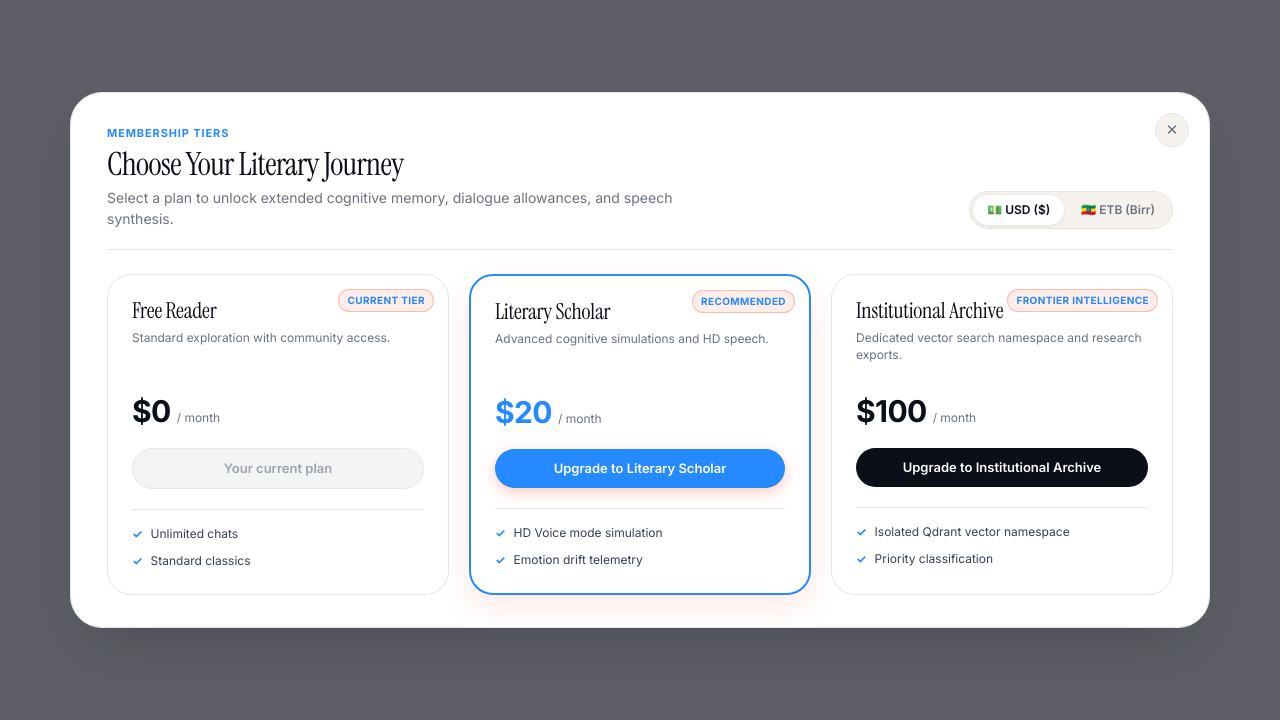
Test: PricingModal Component › switches currency between USD and ETB with live price conversion
Expected: the heading "Literary Scholar" is shown, 495,298 -> 610,326
Expected: the text "$20" is shown, 495,390 -> 552,434
Note: Click ETB currency pill
Click the button "🇪🇹 ETB (Birr)" at (1118, 210), box 1067,196 -> 1169,226
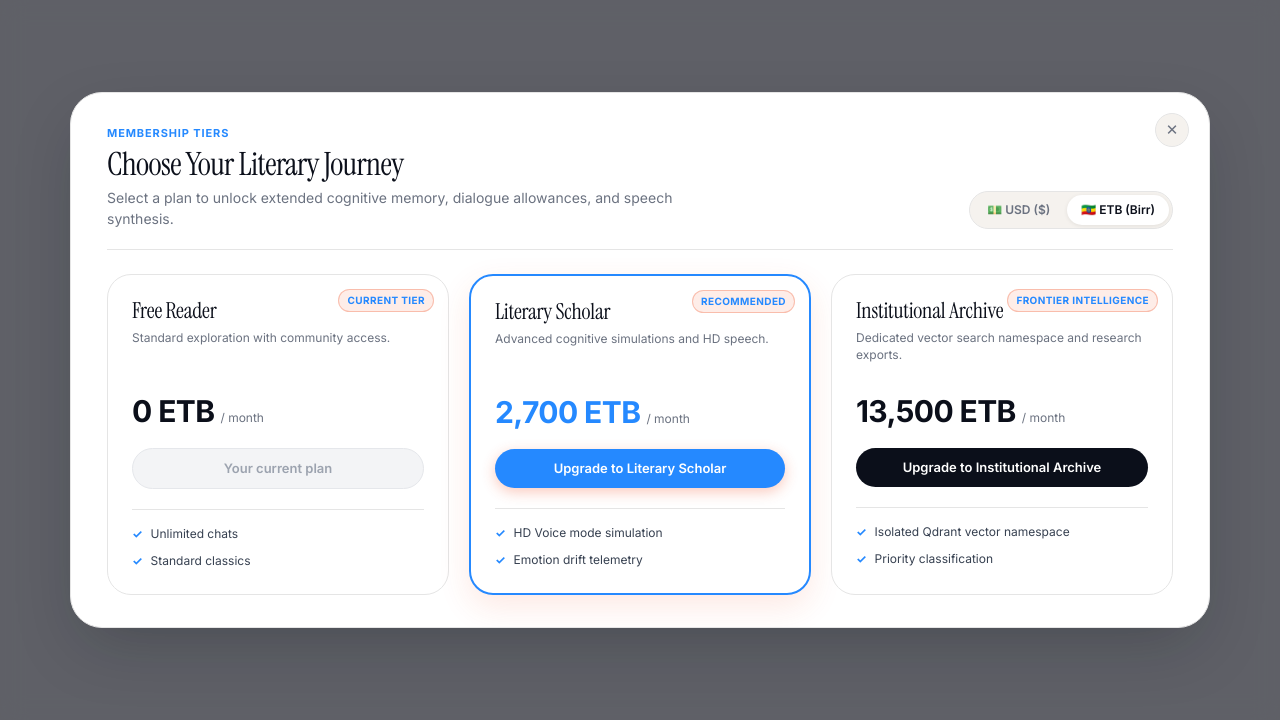
Now the text "2,700 ETB" is shown, box 495,390 -> 640,434
